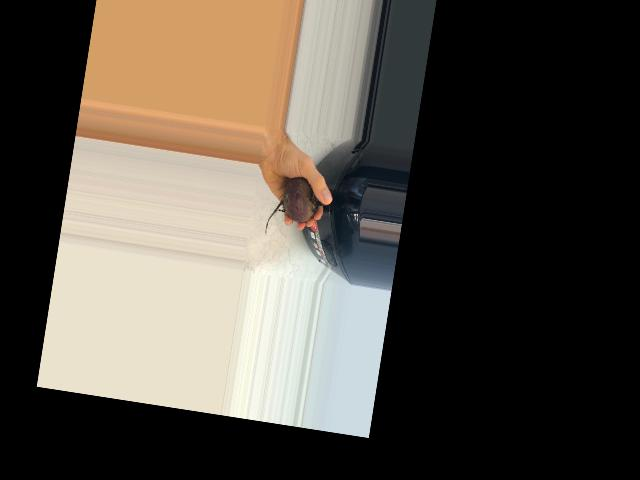beet: (264, 173, 326, 243)
